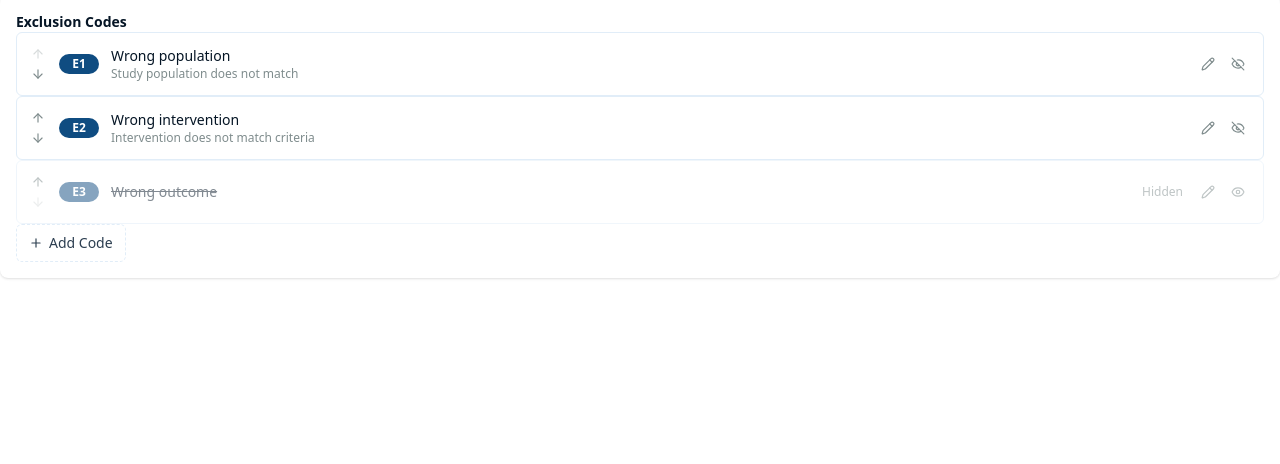
ExclusionCodeManager › opens add form when Add Code is clicked
Click the button with test id "add-code-button" at [71, 243], box x1=16 y1=224 x2=126 y2=262
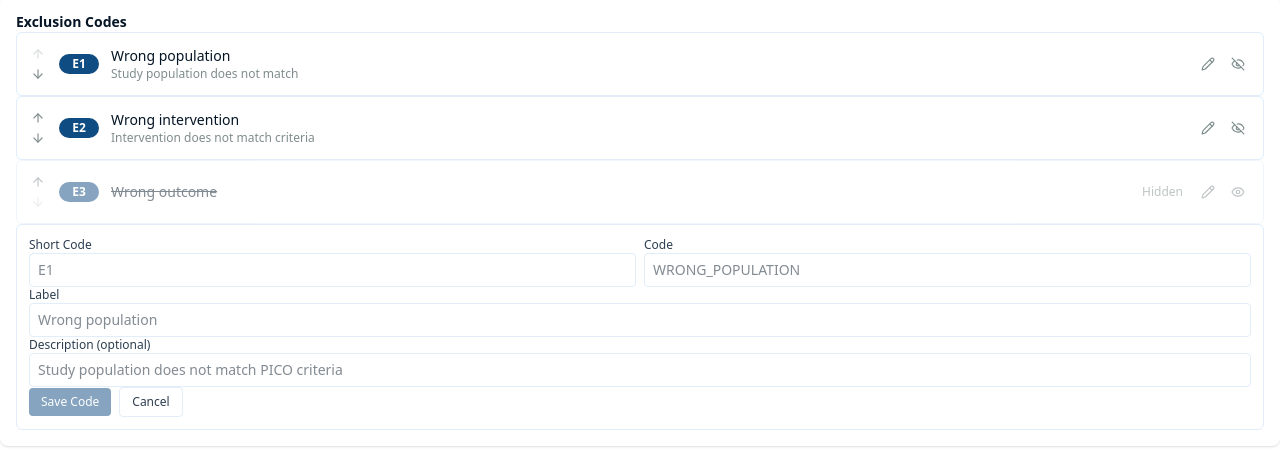
Check: the element with test id "add-code-form" is shown, box x1=16 y1=224 x2=1264 y2=430
Check: the field with test id "new-short-code-input" is shown, box x1=29 y1=253 x2=636 y2=287
Check: the field with test id "new-code-input" is shown, box x1=644 y1=253 x2=1251 y2=287
